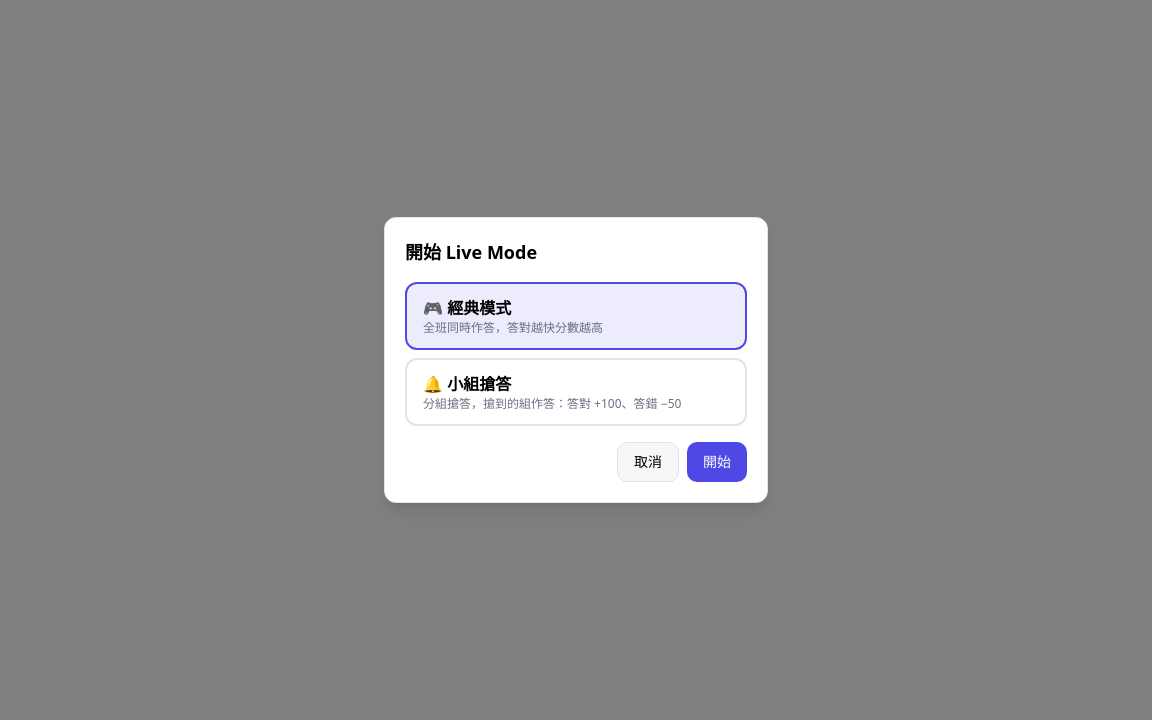
it: LiveStartDialog › 建立失敗：錯誤訊息顯示在對話框內，不導頁
Click the radio button labelled "🔔 小組搶答 分組搶答，搶到的組作答：答對 +100、答錯 −50" at [576, 392], box [405,358,747,426]
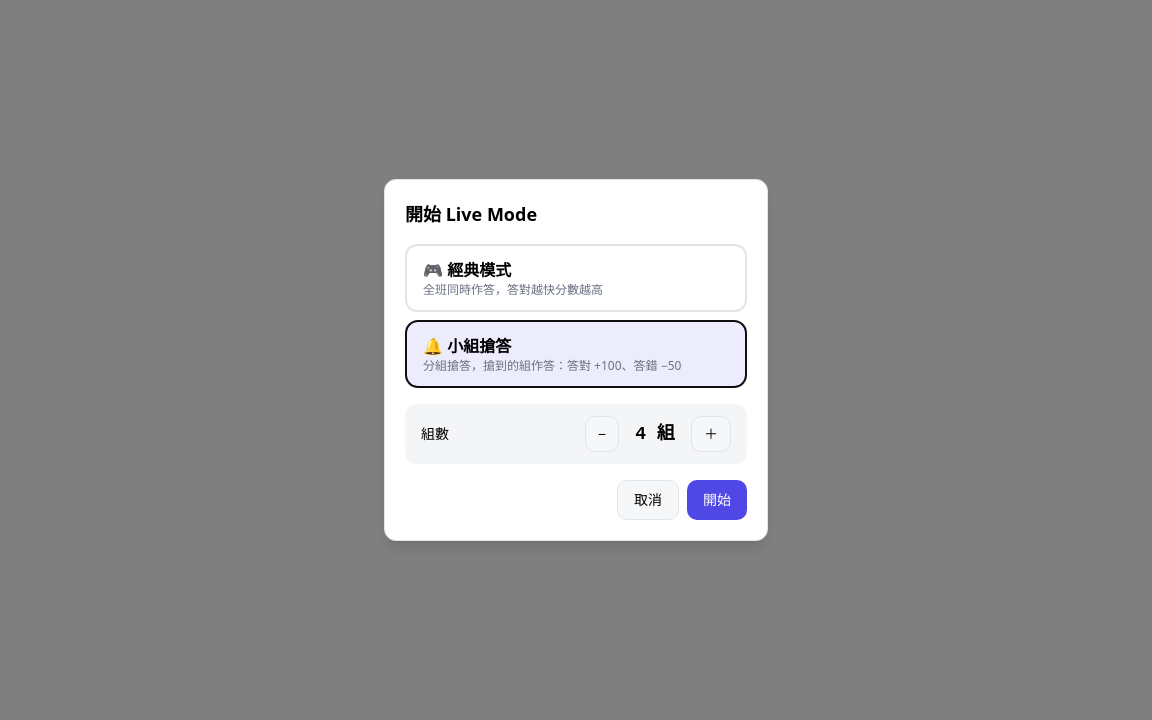
Click the button "開始" at [717, 500], box [687,480,747,520]
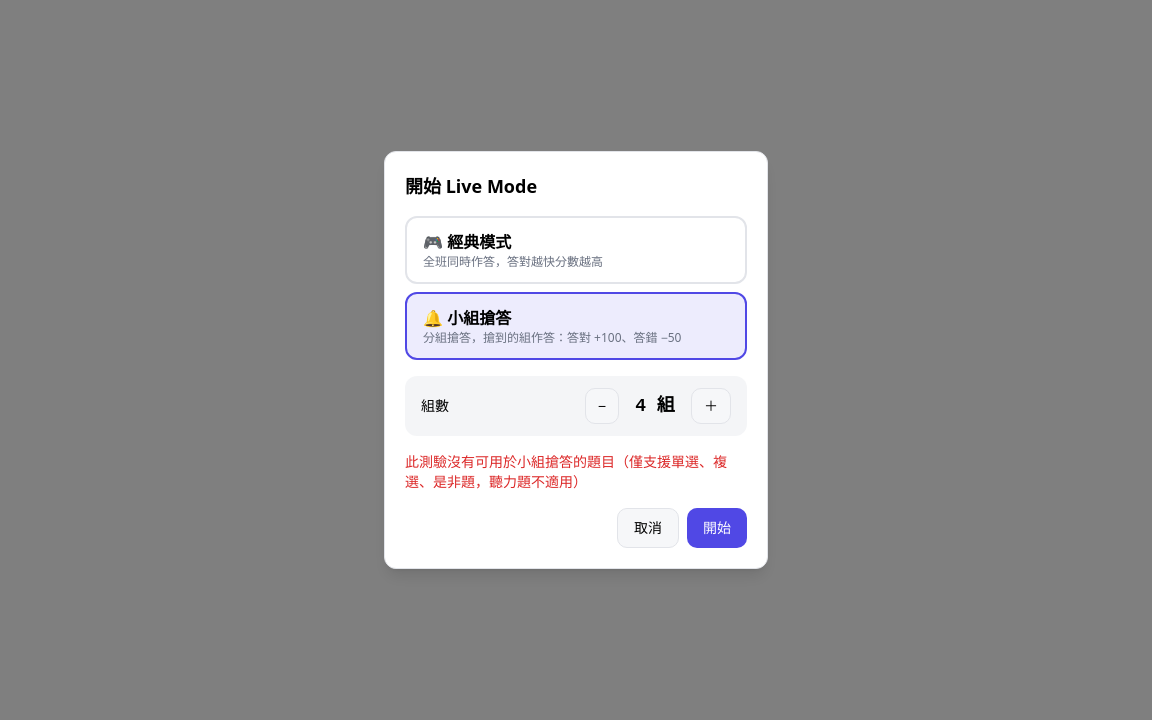
Expected: the text "此測驗沒有可用於小組搶答的題目（僅支援單選、複選、是非題，聽力題不適用）" is shown, [405,452,747,492]
